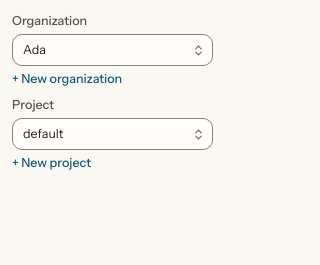
Test case: creating a project › shows a name that is taken as the API says it, and switches nowhere
Click the button "+ New project".
click(52, 163)  # box [12, 154, 91, 172]
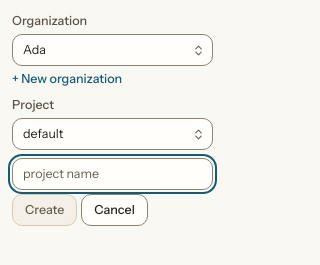
Type "default" into the field named "New project name".
click(112, 174); type("default")  # box [12, 158, 213, 190]
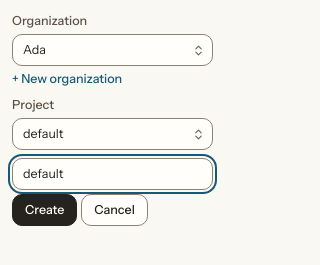
Click the button "Create".
click(45, 210)  # box [12, 194, 77, 226]
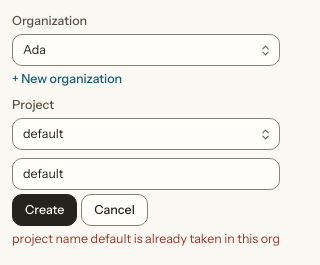
Check: the text "project name default is already taken in this org" is shown, box [12, 230, 280, 248]
